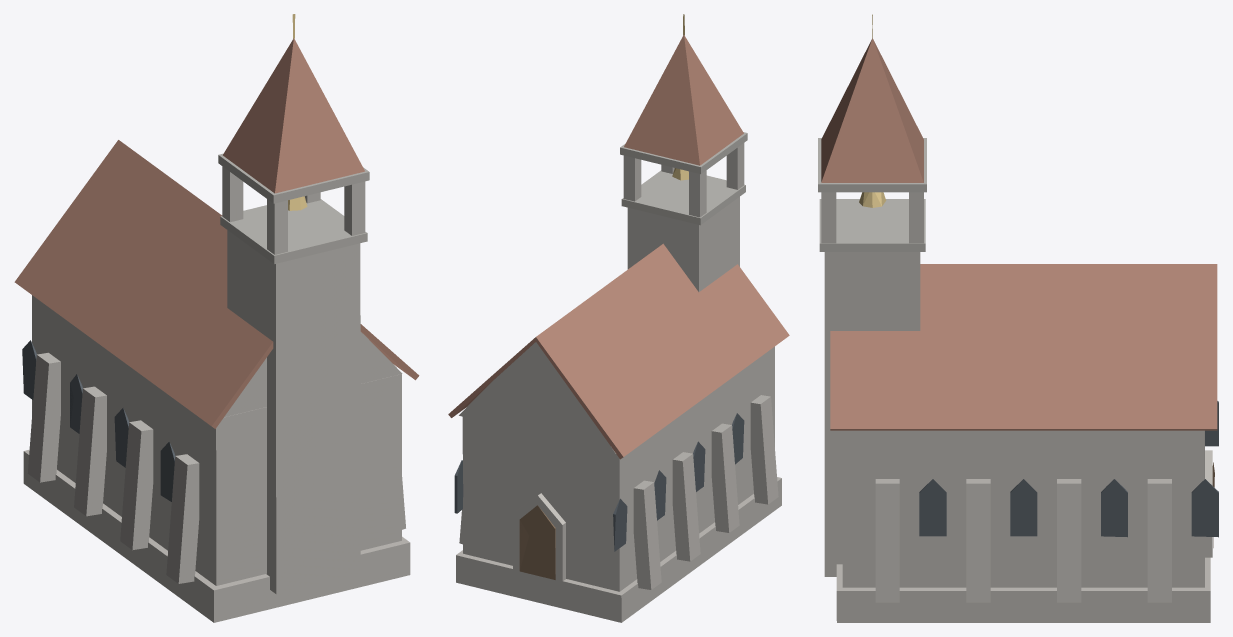
The model's file is chapel_lod1.glb.
3 renders of one model, left to right at view 1: azimuth 30°, elevation 25°; view 2: azimuth 150°, elevation 25°; view 3: azimuth 270°, elevation 25°, orthographic. The views are drawn at different scales.
Visible parts, largest first — view 1: chapel.001; view 2: chapel.001; view 3: chapel.001.
Part boxes in pixels (x1,y1,x2,y2): chapel.001: [14, 14, 419, 622]; chapel.001: [448, 14, 789, 622]; chapel.001: [818, 14, 1218, 622].
Bounding box in the file's own units: 8.53 × 20.48 × 13.25.
